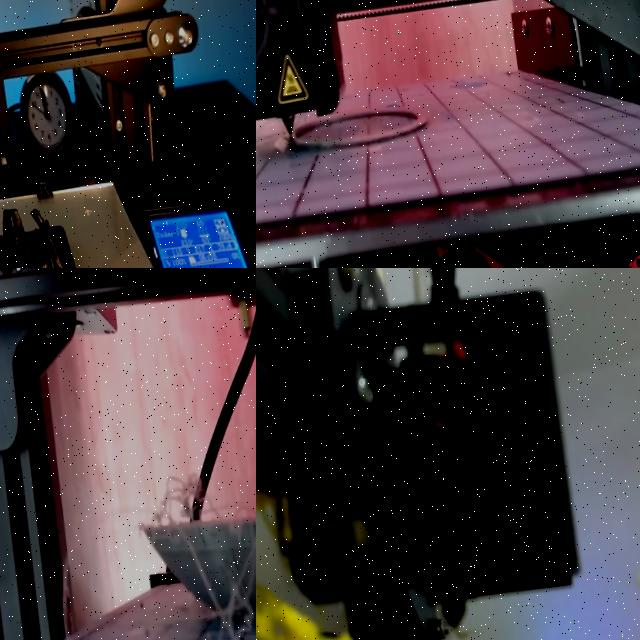spaghetti: (30, 373, 256, 640)
